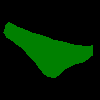mutande: (3, 21, 93, 78)
